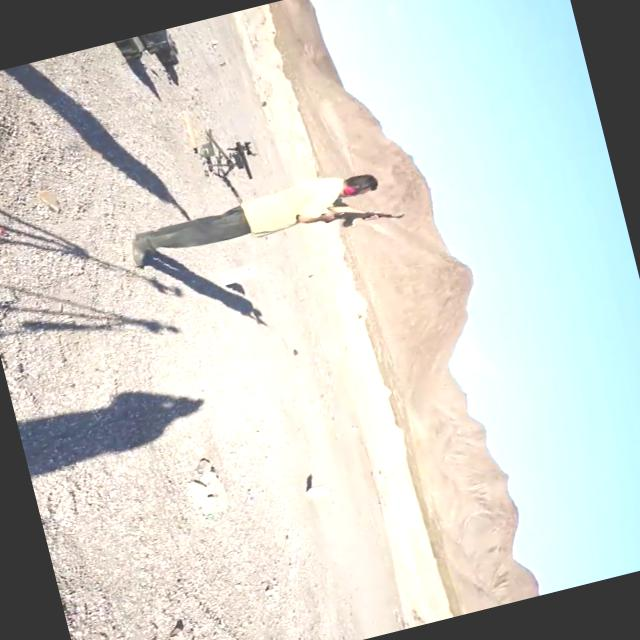long weapon: (247, 185, 423, 262), (185, 125, 277, 193)
